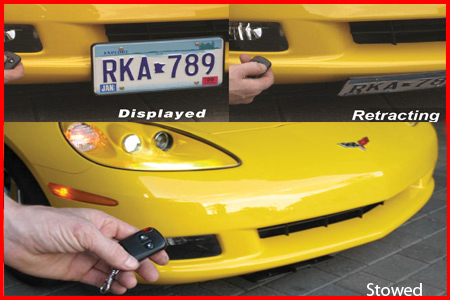license plate: (89, 41, 223, 93)
